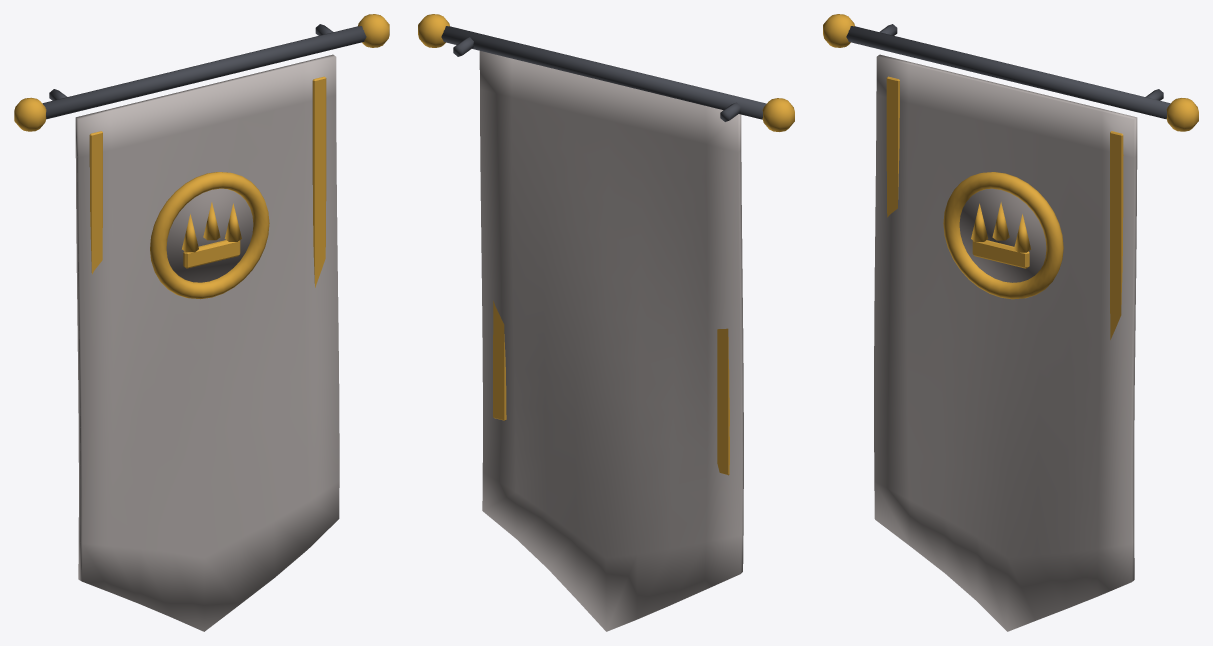
The model's file is estandarte.glb.
3 renders of one model, left to right at view 1: azimuth 30°, elevation 25°; view 2: azimuth 150°, elevation 25°; view 3: azimuth 330°, elevation 25°, orthographic.
Visible parts, largest first — view 1: estandarte; view 2: estandarte; view 3: estandarte.
Part boxes in pixels (x1,y1,x2,y2): estandarte: (14,14,389,631); estandarte: (418,14,794,631); estandarte: (823,14,1198,631).
Bounding box in the file's own units: 1.73 × 2.55 × 0.235.
